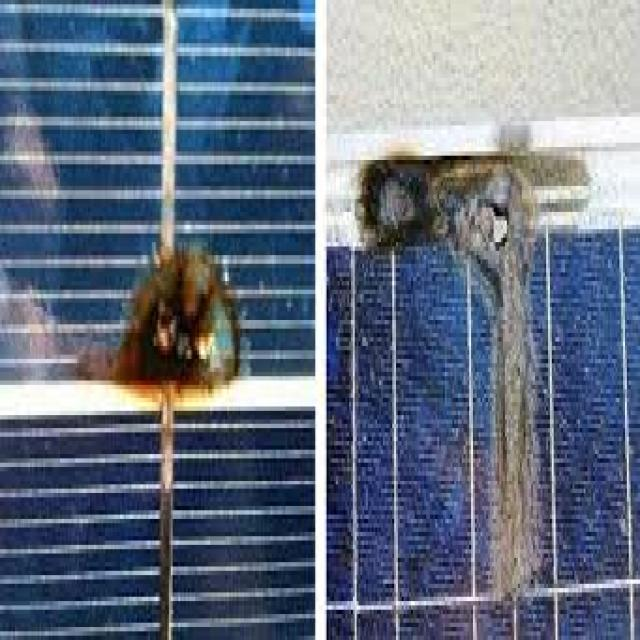faulty: (2, 11, 292, 640), (331, 151, 640, 639)
